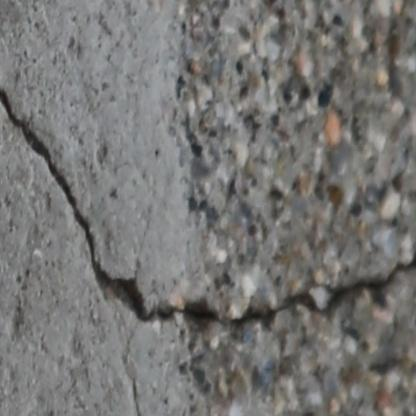Cracks: (0, 83, 223, 335), (226, 246, 416, 332)
